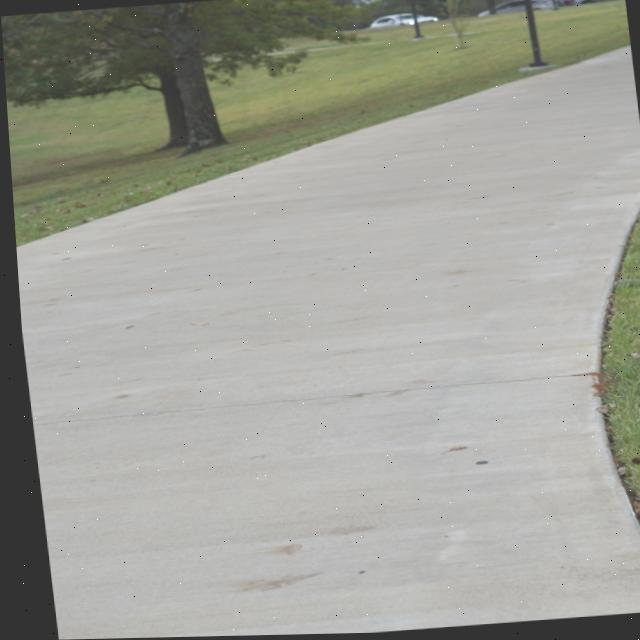Sidewalk: (13, 49, 640, 640)
